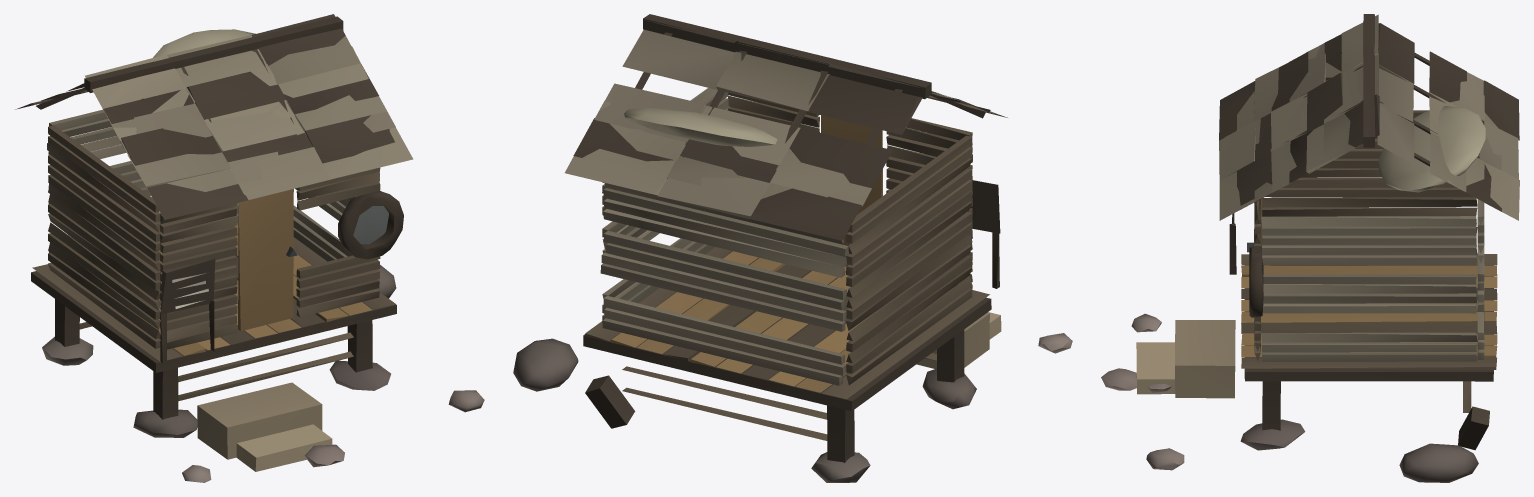
Rendered from lookout_hut_b_lod2.glb.
The picture shows the model from 3 angles, left to right: view 1: azimuth 30°, elevation 25°; view 2: azimuth 150°, elevation 25°; view 3: azimuth 270°, elevation 25°; orthographic projection. The views are drawn at different scales.
Parts seen in each view (by area): view 1: Surface.001; view 2: Surface.001; view 3: Surface.001.
Part boxes in pixels (x1=…): Surface.001: x1=15, y1=14, x2=484, y2=482; Surface.001: x1=513, y1=14, x2=1072, y2=482; Surface.001: x1=1101, y1=14, x2=1519, y2=482.
Bounding box in the file's own units: 5.76 × 5.16 × 6.
